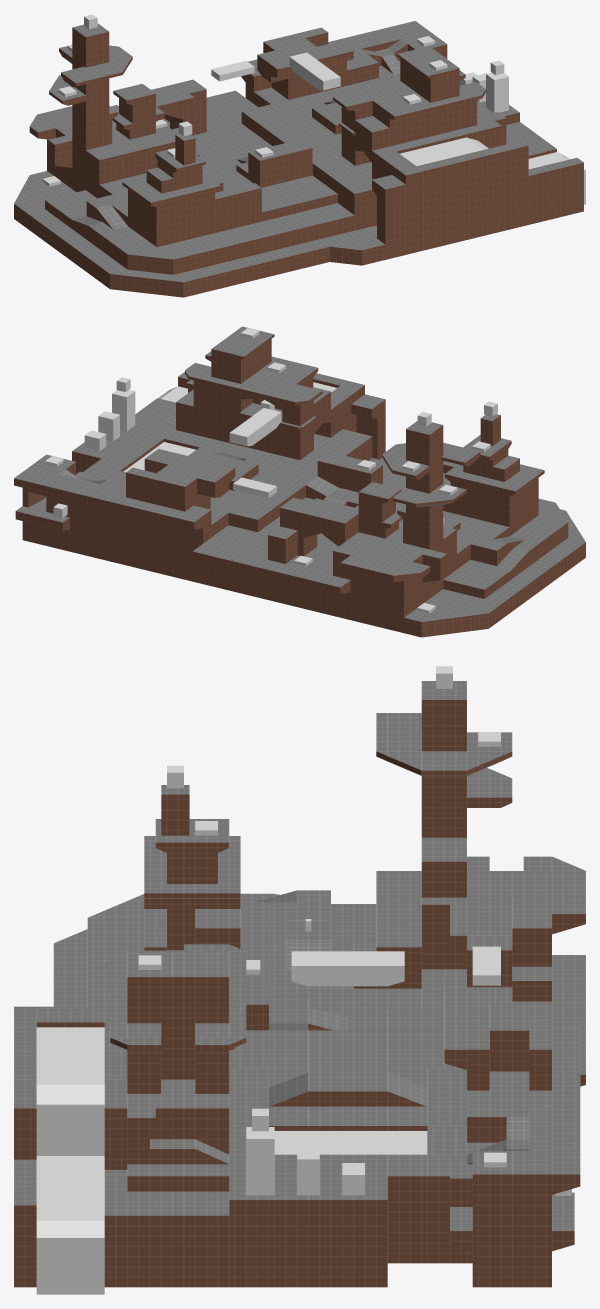
File: playgroundblenderfile.fbx
3 renders of one model, top to bottom at view 1: azimuth 30°, elevation 25°; view 2: azimuth 150°, elevation 25°; view 3: azimuth 270°, elevation 25°, orthographic. The views are drawn at different scales.
Parts seen in each view (by area): view 1: entity0_brush118, entity0_brush183, entity0_brush17, entity0_brush184, entity0_brush190, entity0_brush187, entity0_brush149, entity0_brush152, entity0_brush43, entity0_brush115, entity0_brush144, entity0_brush82 (+65 smaller); view 2: entity0_brush52, entity0_brush17, entity0_brush200, entity0_brush98, entity0_brush101, entity0_brush114, entity0_brush151, entity0_brush43, entity0_brush175, entity0_brush152, entity0_brush180, entity0_brush100 (+62 smaller); view 3: entity0_brush148, entity0_brush76, entity0_brush152, entity0_brush200, entity0_brush192, entity0_brush52, entity0_brush189, entity0_brush114, entity0_brush78, entity0_brush35, entity0_brush77, entity0_brush191 (+81 smaller).
Part boxes in pixels (x1,y1,x2,y2): entity0_brush118: (417,149,493,250); entity0_brush183: (157,203,354,274); entity0_brush17: (128,176,215,246); entity0_brush184: (174,228,372,297); entity0_brush190: (528,158,583,224); entity0_brush187: (487,140,528,233); entity0_brush149: (312,156,376,230); entity0_brush152: (72,23,109,119); entity0_brush43: (14,199,108,275); entity0_brush115: (372,146,423,254); entity0_brush144: (248,139,312,187); entity0_brush82: (417,58,459,136); entity0_brush52: (333,532,429,632); entity0_brush17: (450,464,538,535); entity0_brush200: (211,336,257,445); entity0_brush98: (93,484,149,570); entity0_brush101: (149,473,191,579); entity0_brush114: (14,472,202,529); entity0_brush151: (203,525,267,599); entity0_brush43: (471,551,567,628); entity0_brush175: (192,544,350,593); entity0_brush152: (406,421,443,518); entity0_brush180: (404,599,488,637); entity0_brush100: (52,474,99,557); entity0_brush148: (104,1191,229,1287); entity0_brush76: (308,1154,387,1287); entity0_brush152: (421,681,466,837); entity0_brush200: (172,953,229,1079); entity0_brush192: (36,1220,104,1294); entity0_brush52: (467,871,551,966); entity0_brush189: (36,1085,104,1155); entity0_brush114: (552,1028,580,1194); entity0_brush78: (269,1154,308,1287); entity0_brush35: (421,842,466,969); entity0_brush77: (387,1154,427,1263); entity0_brush191: (36,1156,104,1220).
Size of the model in its own units: 60800 by 24800 by 40400.
